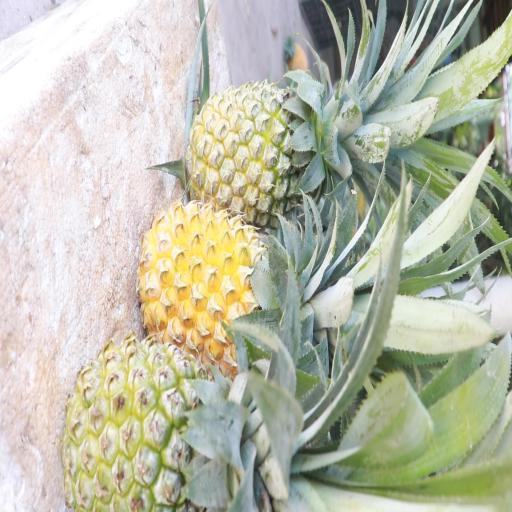------------------------------: (70, 341, 253, 512), (189, 70, 338, 222)
Pineapple - v8 v1: (140, 201, 294, 367)
